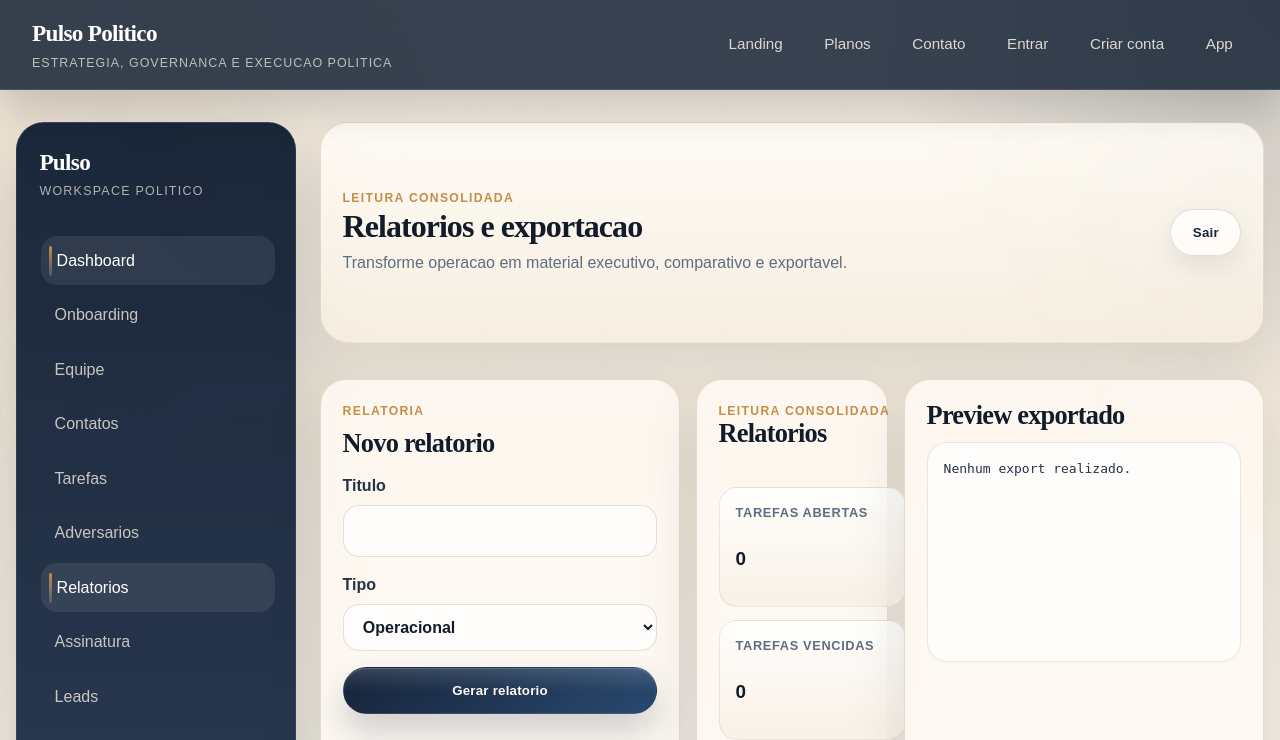
Test: App authenticated flows › gera e exporta um relatorio na area autenticada
This screenshot has width=1280, height=740.
Expected: the heading "Relatorios" is shown, [719, 418, 826, 448]
Type "Radar semanal" into the field labelled "Titulo" at (500, 531), box [343, 505, 657, 557]
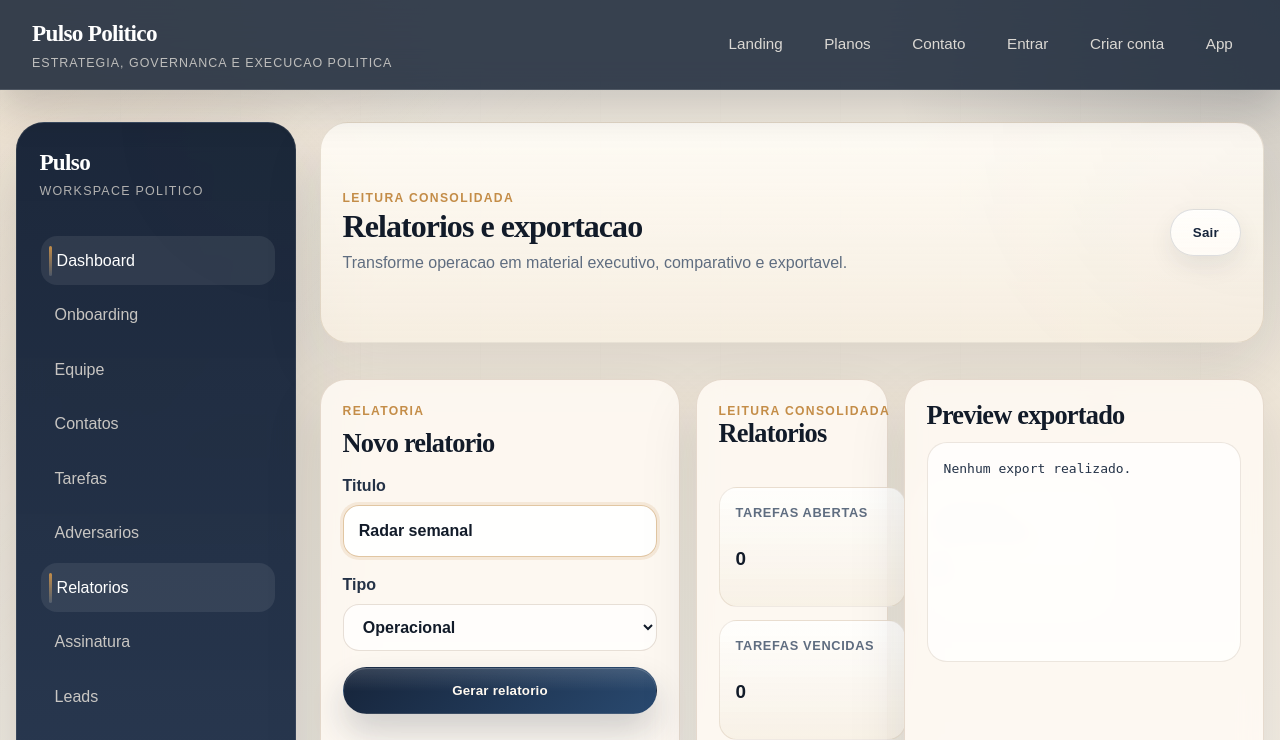
Select "Executivo" in the dropdown labelled "Tipo" at (500, 628), box [343, 604, 657, 651]
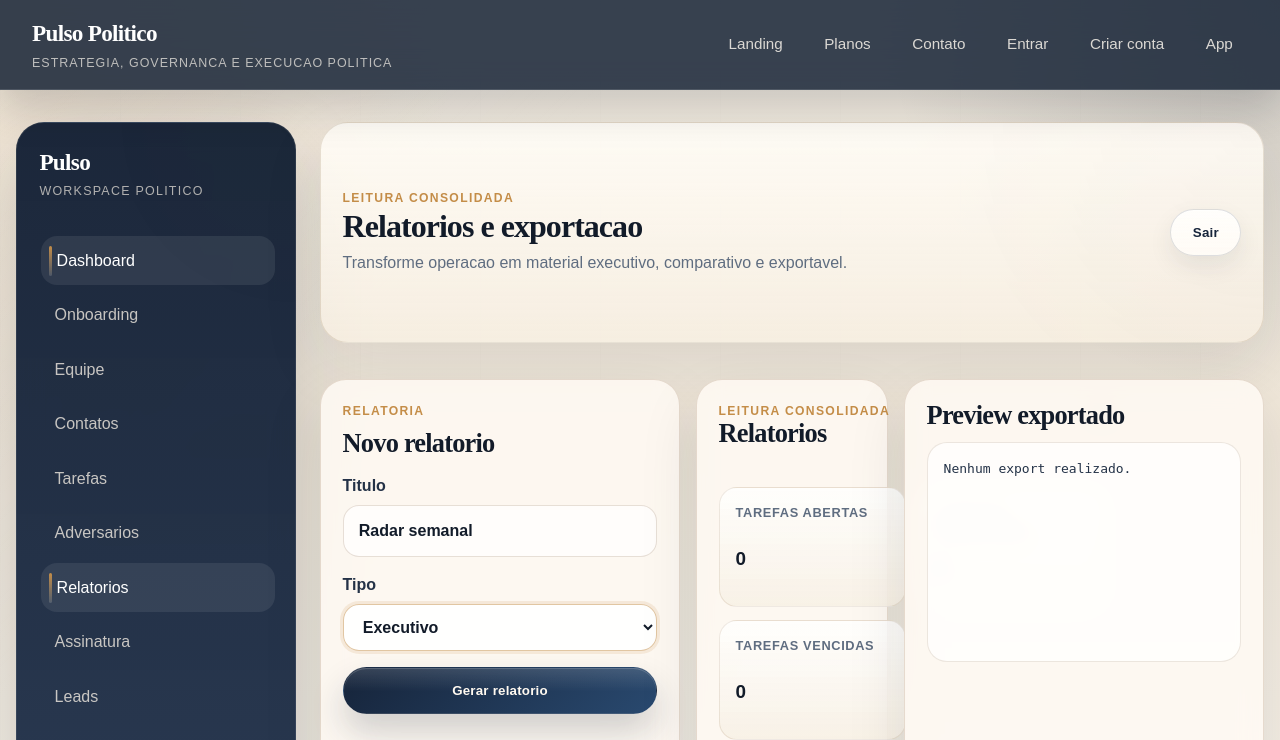
Click the button "Gerar relatorio" at (500, 691), box [343, 667, 657, 714]
(page scrolled)
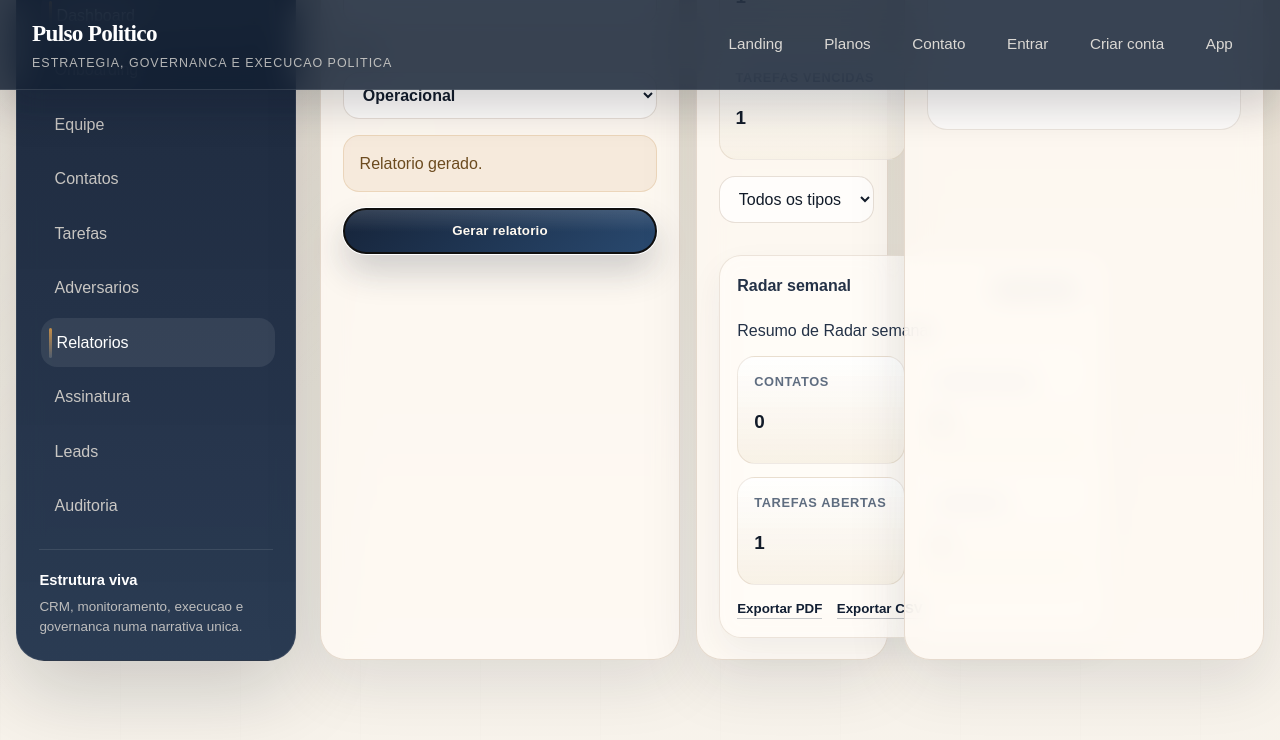
Expected: the text "Relatorio gerado." is shown, [343, 135, 657, 192]
Expected: the text "Radar semanal" is shown, [737, 274, 851, 298]
Click the button "Exportar CSV" at (880, 609), box [837, 598, 923, 619]
(page scrolled)
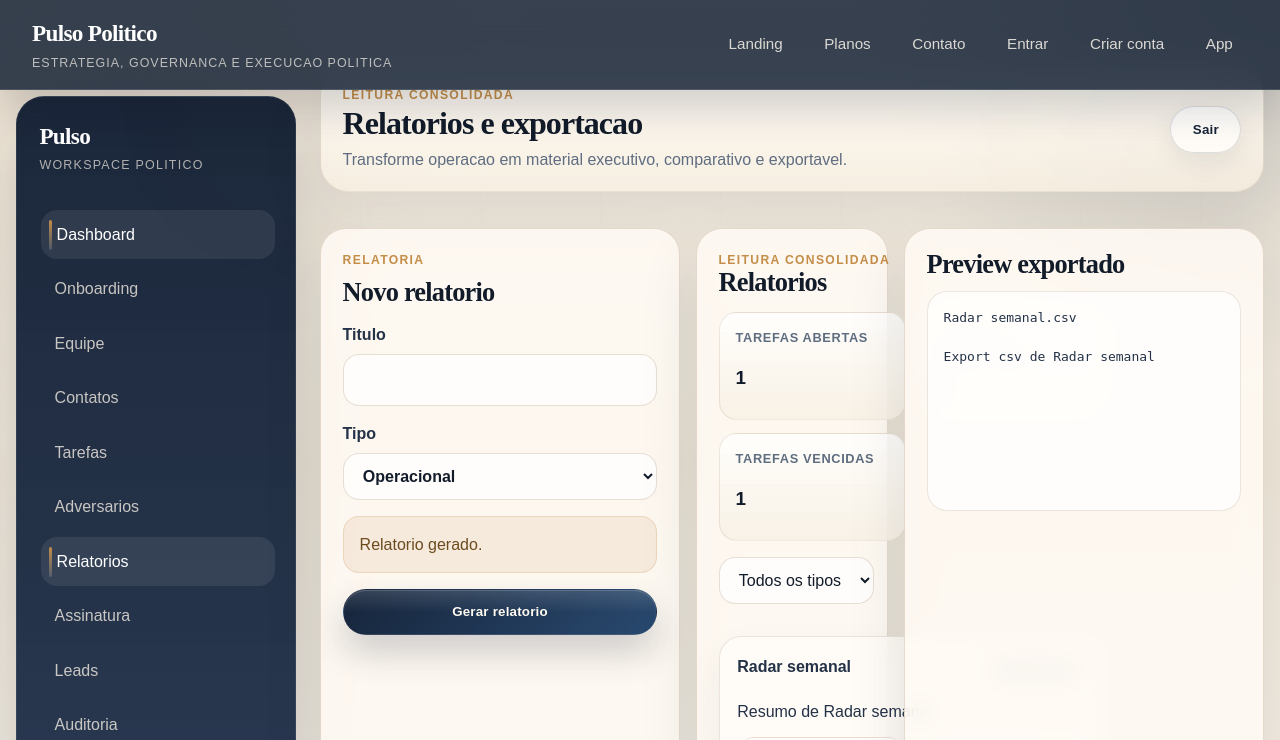
Expected: the text "Radar semanal.csv Export csv de Radar semanal" is shown, [927, 291, 1241, 511]
